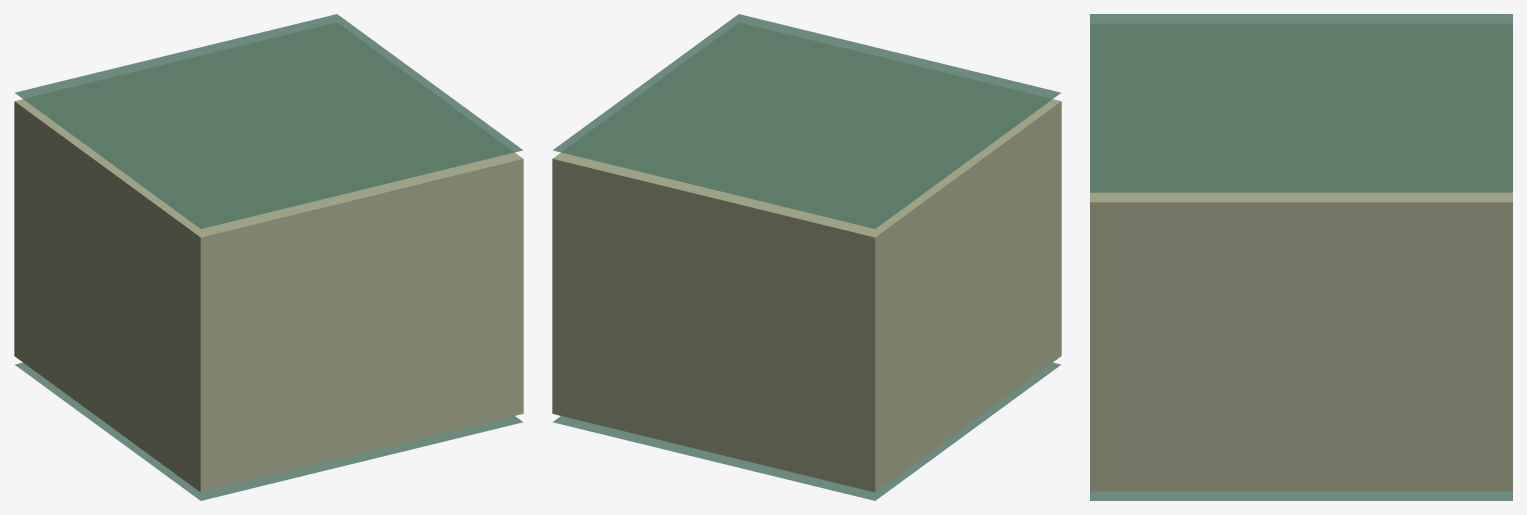
File: dc801-gp2040-ce-dc32-controller-badge.glb
3 views of the same model, side by side, from view 1: azimuth 30°, elevation 25°; view 2: azimuth 150°, elevation 25°; view 3: azimuth 270°, elevation 25° (orthographic). The views are drawn at different scales.
Parts seen in each view (by area): view 1: =>[0:1:1:4], =>[0:1:1:2]; view 2: =>[0:1:1:4], =>[0:1:1:2]; view 3: =>[0:1:1:4], =>[0:1:1:2].
Boxes of the visible parts, x1,y1,x2,y2 form: =>[0:1:1:4]: (14, 23, 523, 492); =>[0:1:1:2]: (15, 14, 522, 500); =>[0:1:1:4]: (552, 23, 1061, 492); =>[0:1:1:2]: (553, 14, 1060, 500); =>[0:1:1:4]: (1090, 24, 1512, 491); =>[0:1:1:2]: (1090, 14, 1512, 500).
Bounding box in the file's own units: 0.002 × 0.00161 × 0.002.
